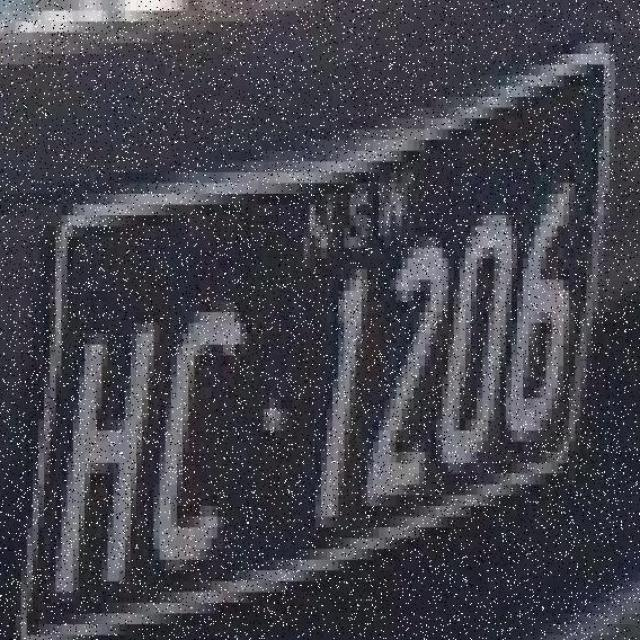license-plate: (22, 0, 610, 627)
